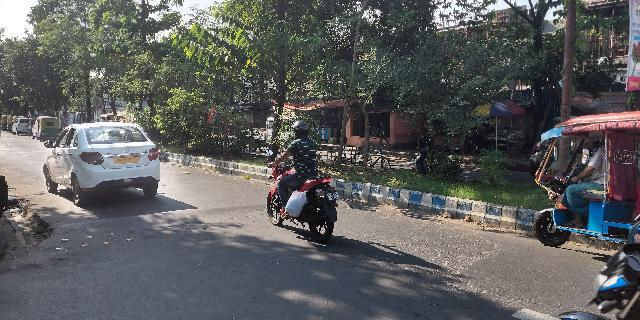Autorickshaw: (36, 114, 58, 141)
Car: (40, 125, 166, 207)
Motorbike: (258, 118, 341, 239)
Rickshaw: (528, 110, 640, 247)
